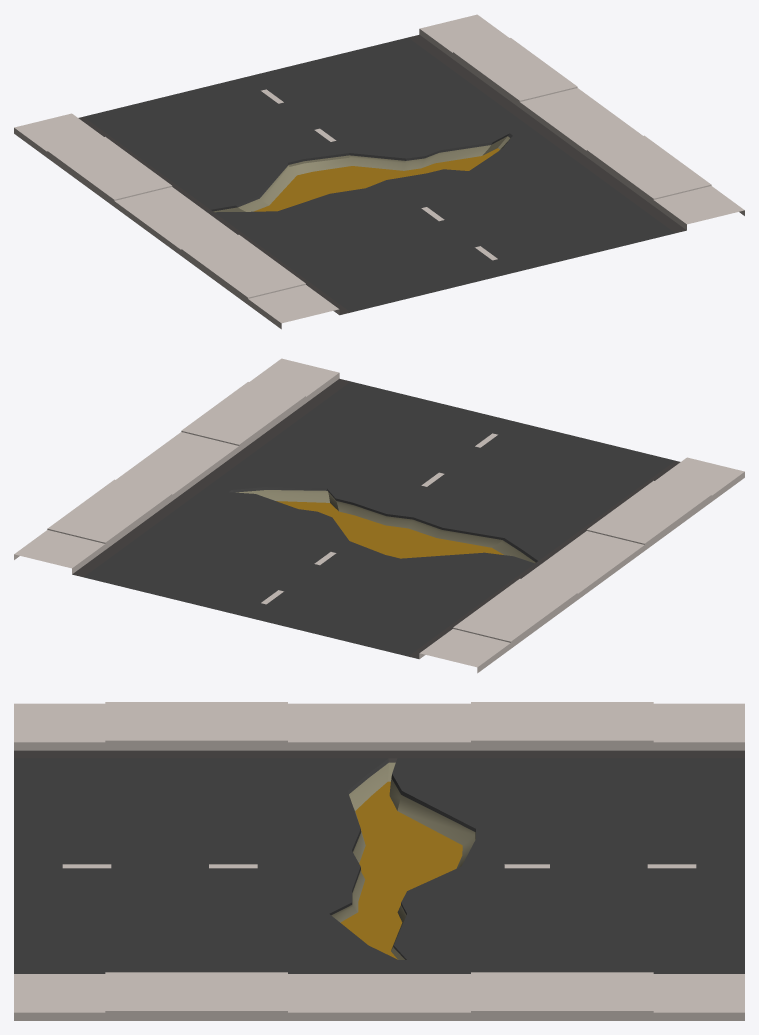
File: quaternius-zombie-apocalypse-kit-march-street-straight-crack-1.glb
3 renders of one model, top to bottom at view 1: azimuth 30°, elevation 25°; view 2: azimuth 150°, elevation 25°; view 3: azimuth 270°, elevation 25°, orthographic. The views are drawn at different scales.
Parts seen in each view (by area): view 1: Street_Straight_Crack1; view 2: Street_Straight_Crack1; view 3: Street_Straight_Crack1.
Boxes of the visible parts, left/top/right/bottom form: Street_Straight_Crack1: left=14, top=14, right=744, bottom=329; Street_Straight_Crack1: left=14, top=358, right=744, bottom=673; Street_Straight_Crack1: left=14, top=702, right=744, bottom=1020.
Size of the model in its own units: 8 by 0.2852 by 8.
1 material, 1 textured.
